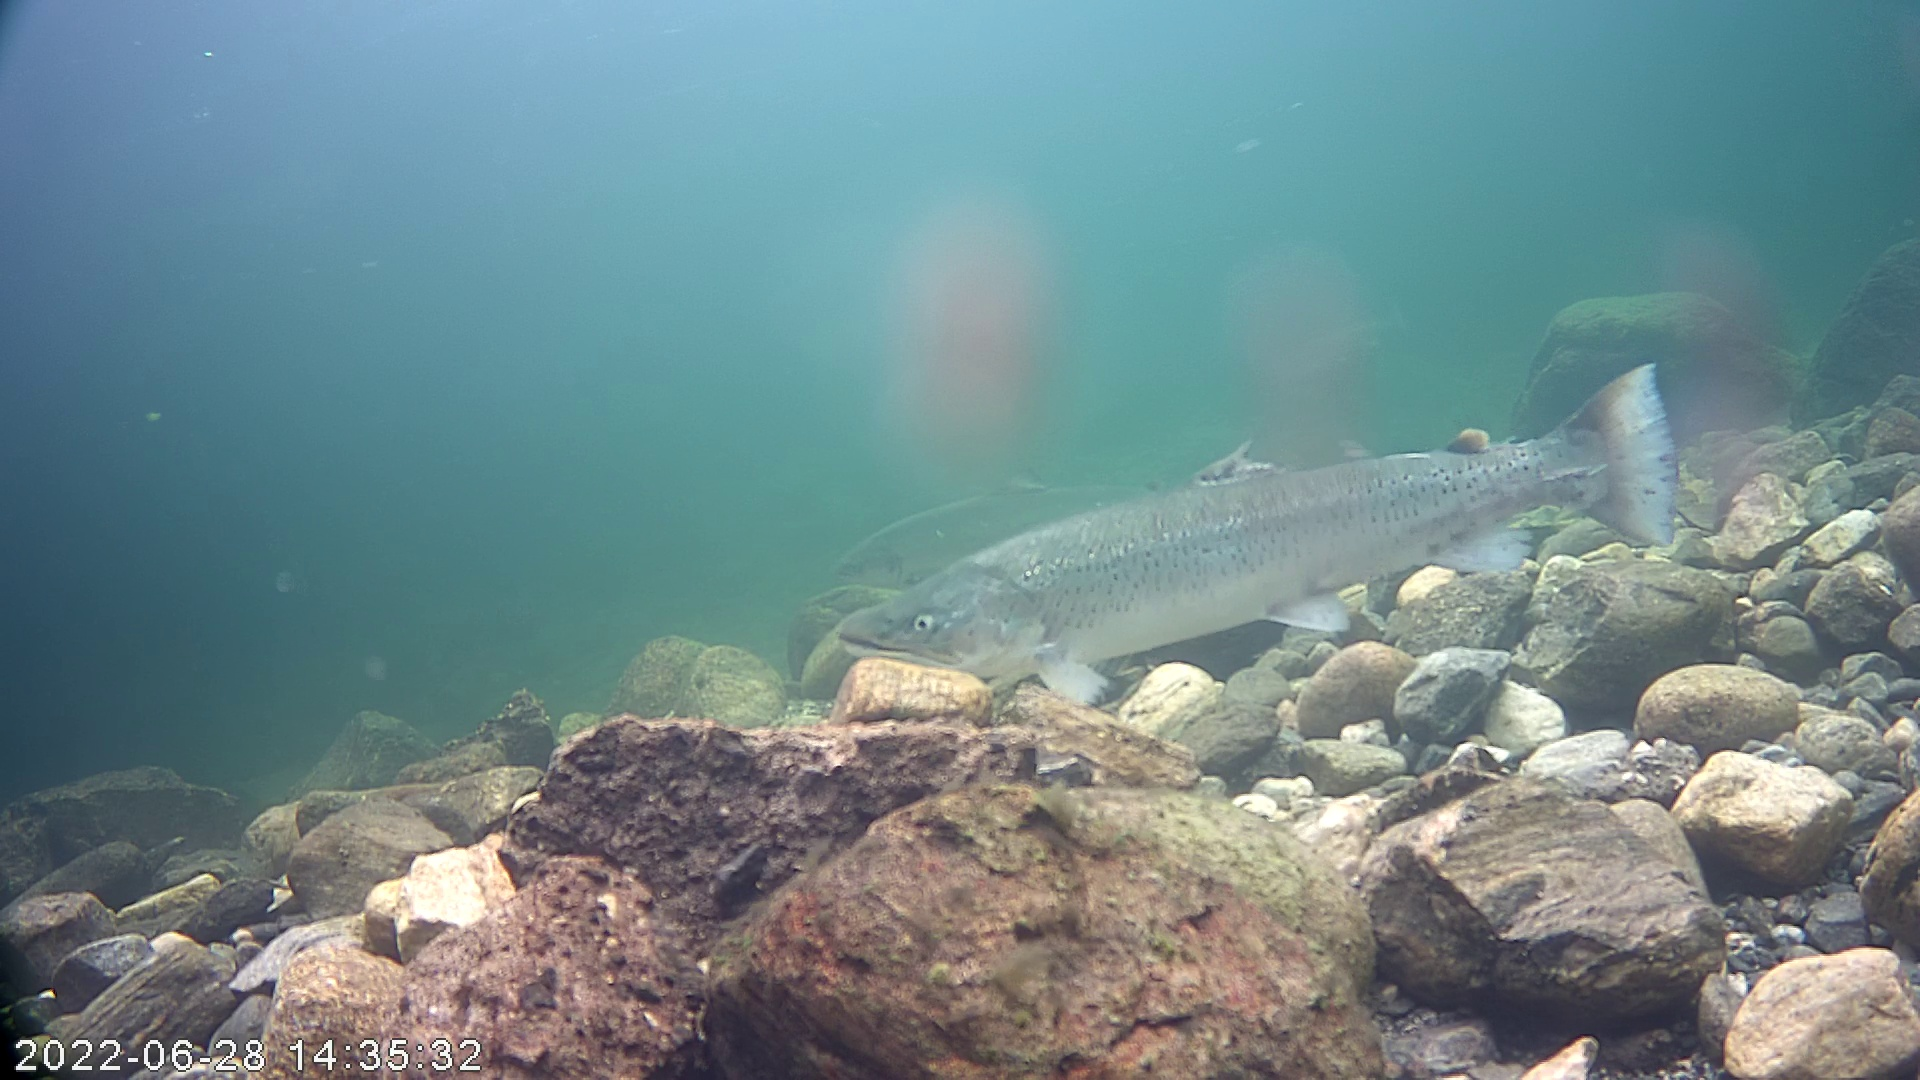salmon: (806, 278, 1712, 703)
